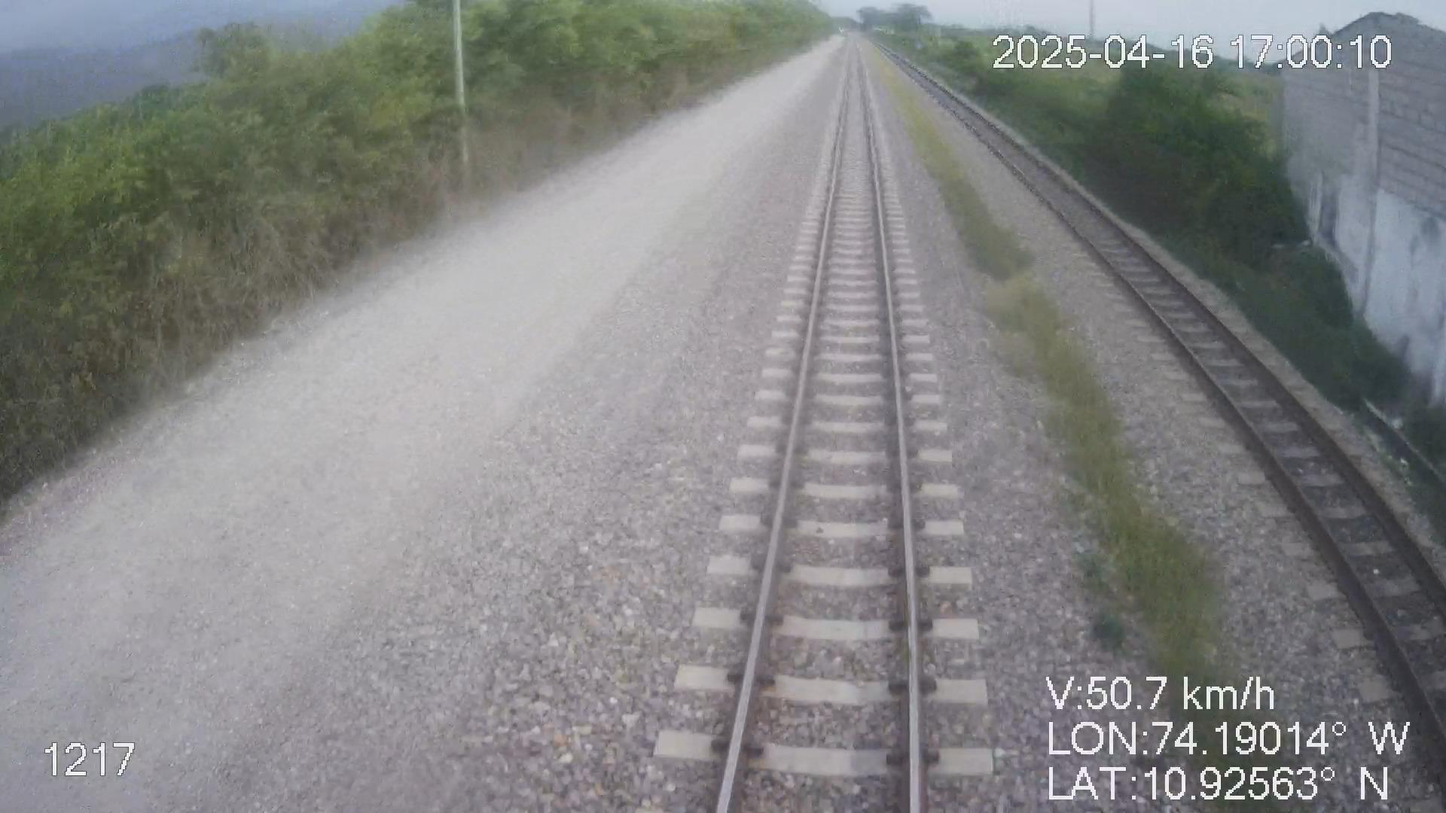Pasto: (0, 0, 840, 510), (873, 11, 1445, 475)
